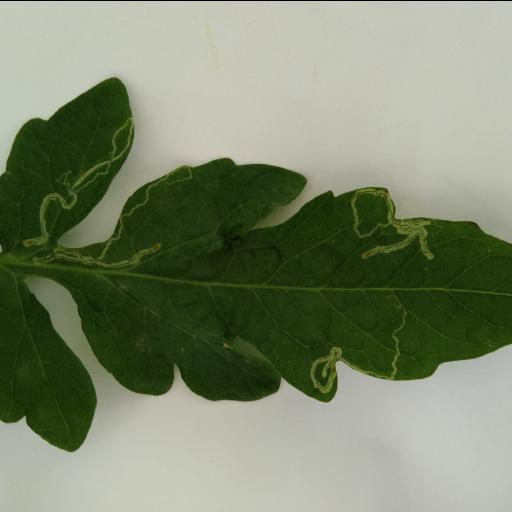Leaf Miner: (76, 153, 512, 405), (0, 70, 136, 246)
